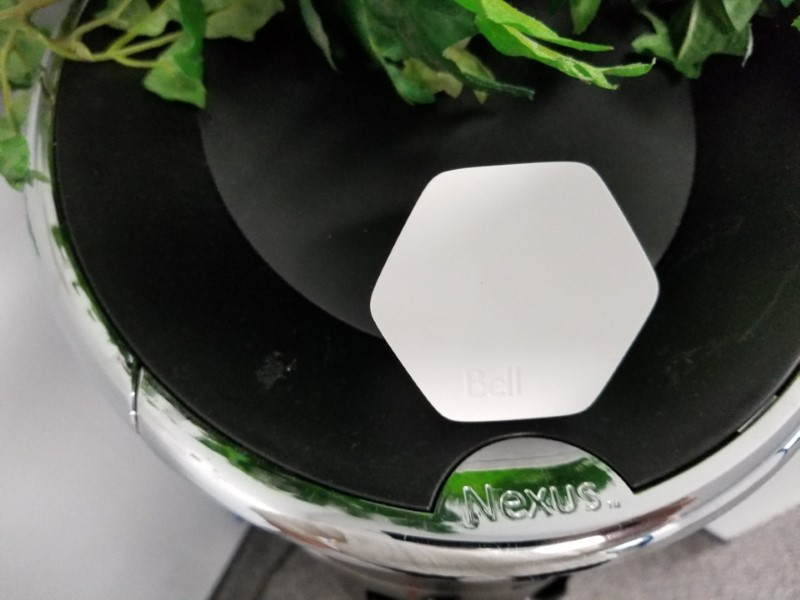pod: (366, 156, 671, 426)
